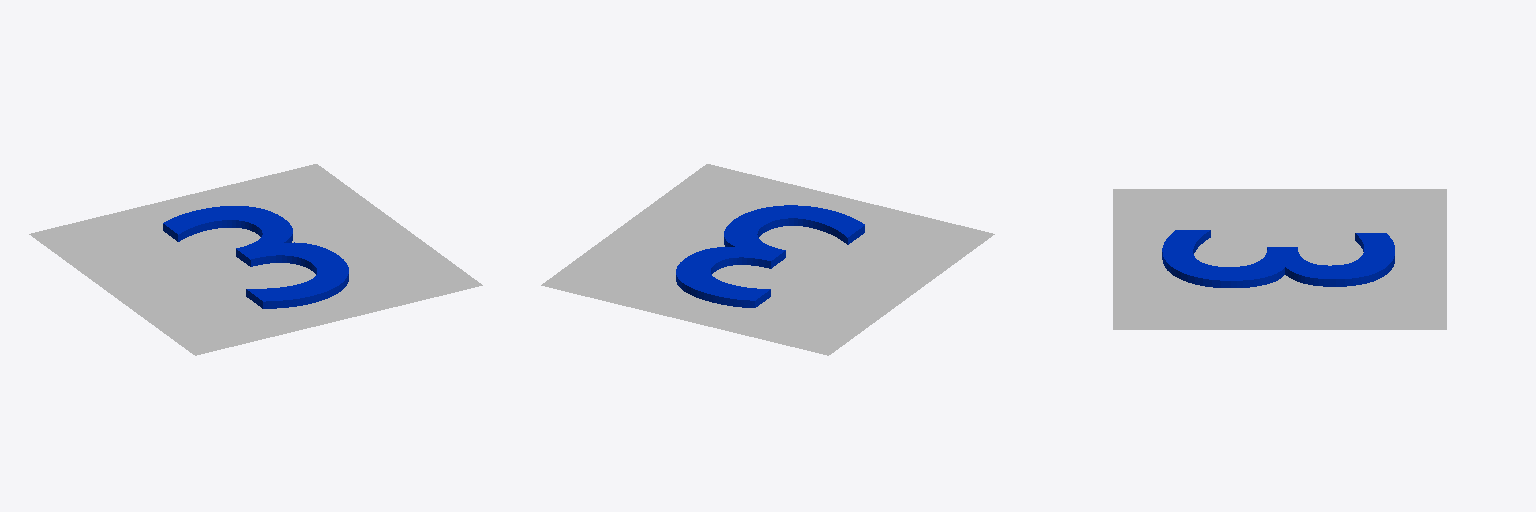
The model's file is TileThree.obj.
The picture shows the model from 3 angles: view 1: azimuth 30°, elevation 25°; view 2: azimuth 150°, elevation 25°; view 3: azimuth 270°, elevation 25°; orthographic projection.
Size of the model in its own units: 20 by 0.5 by 20.